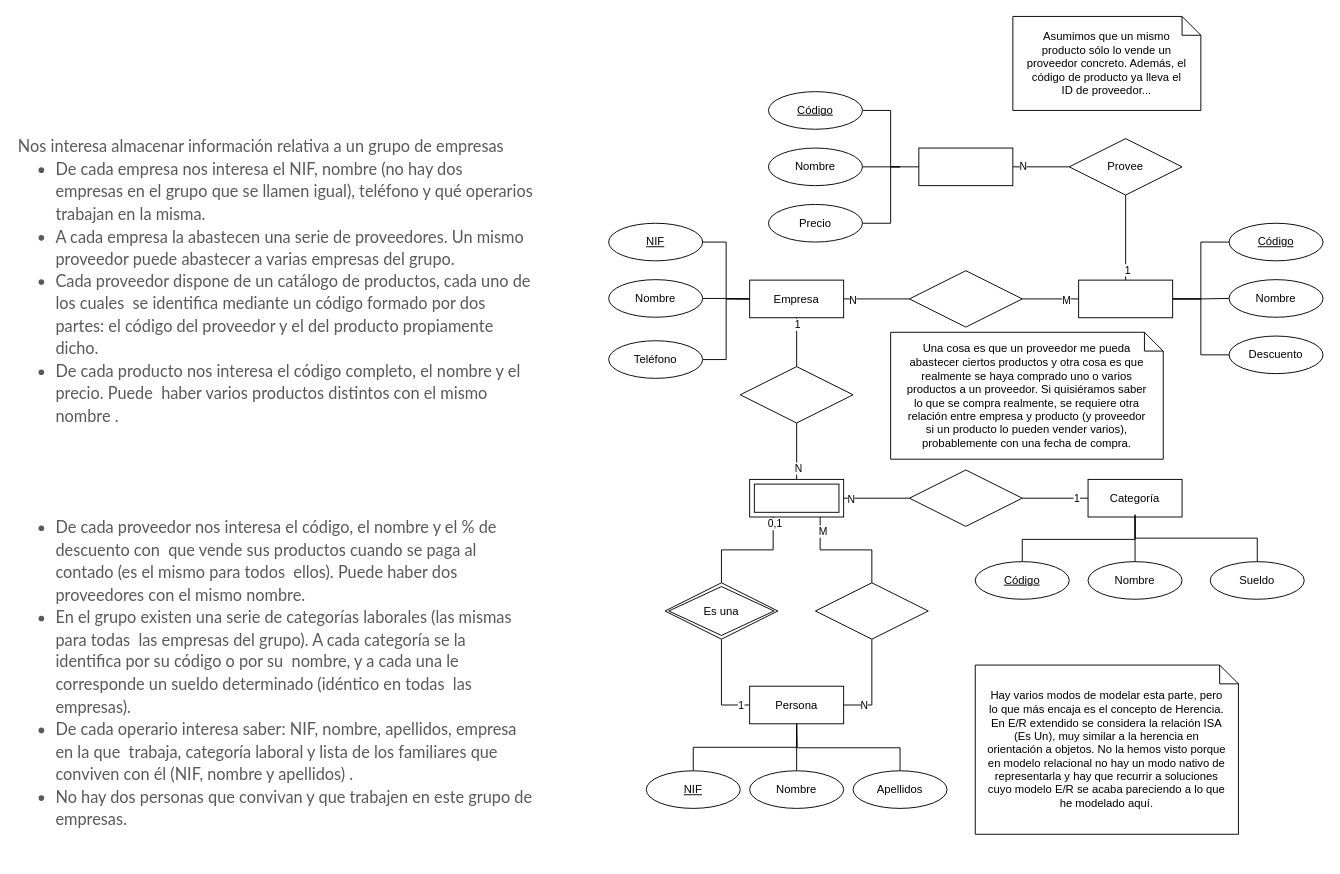
Image size: 1340x874. Some labels were removed from this diagram. The shapes that lost their labels are listed below. From the top down, each one's centre as x and y in pixels, then its label:
At pixel 965 166: "Producto".
At pixel 965 298: "Abastece".
At pixel 1125 298: "Proveedor".
At pixel 796 394: "Trabaja".
At pixel 796 497: "Operario".
At pixel 965 497: "Tiene".
At pixel 871 610: "Convive con".
